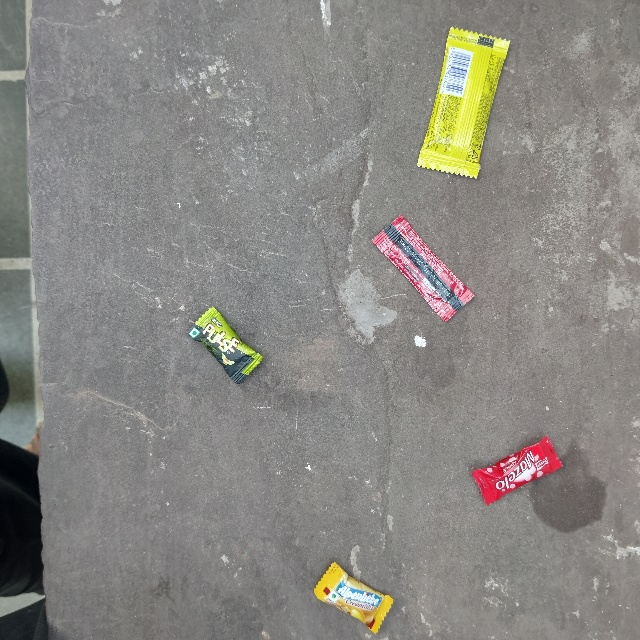Alpenlibe Creamfills: (333, 557, 412, 602)
Mazelo: (462, 467, 560, 509)
Nescafe Coffee: (365, 241, 416, 359)
Orbit: (453, 25, 514, 172)
Pulse: (212, 302, 296, 347)
